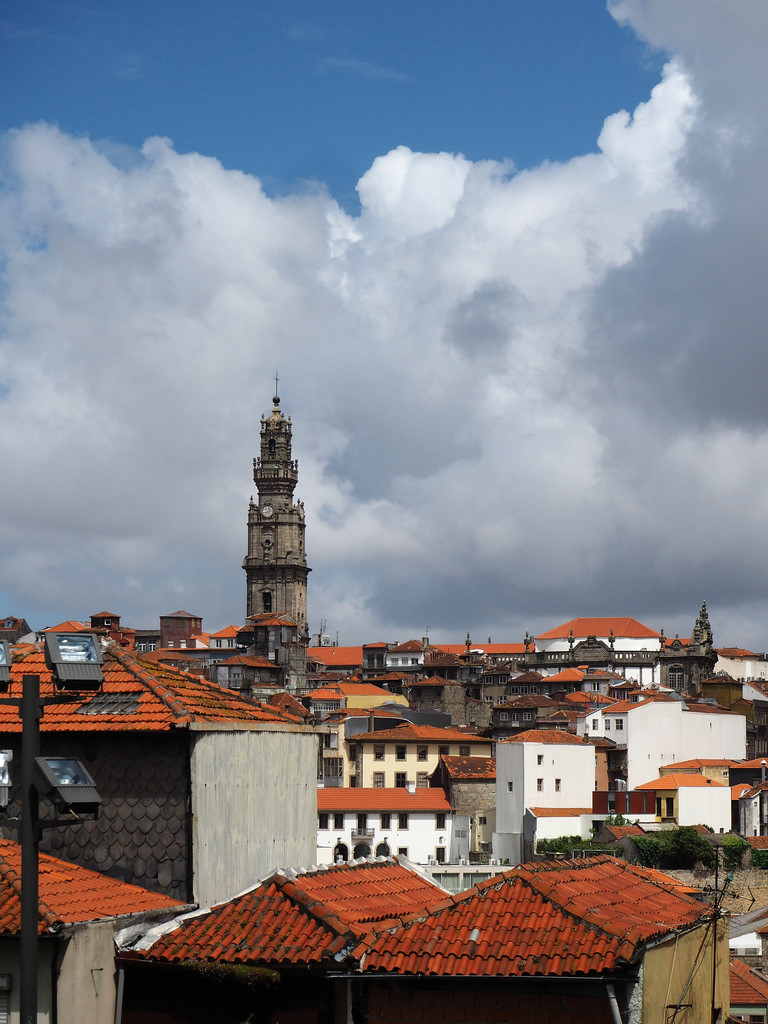clerigos: (238, 367, 313, 623)
